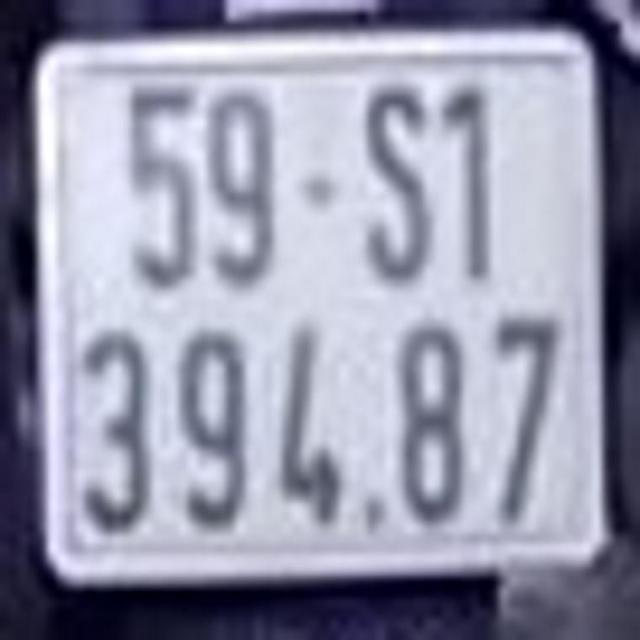1: (446, 89, 496, 281)
3: (83, 337, 149, 537)
4: (285, 322, 339, 525)
5: (133, 84, 195, 286)
7: (493, 316, 564, 524)
8: (400, 316, 460, 524)
9: (206, 88, 277, 282), (180, 330, 240, 533)
S: (364, 83, 434, 279)
